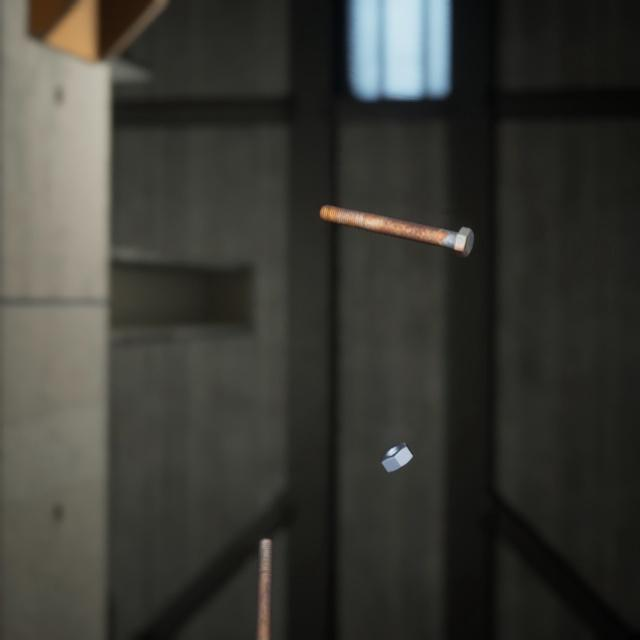bolt: (315, 186, 478, 247), (243, 510, 282, 640)
nut: (376, 418, 417, 457)
